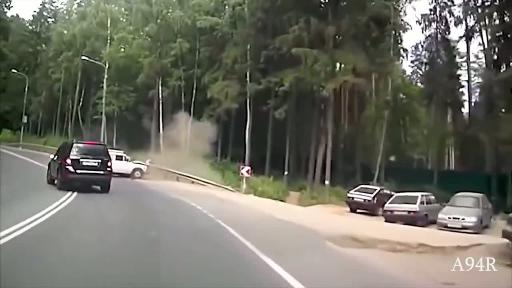Accident-fire-smoke: (31, 60, 265, 226)
